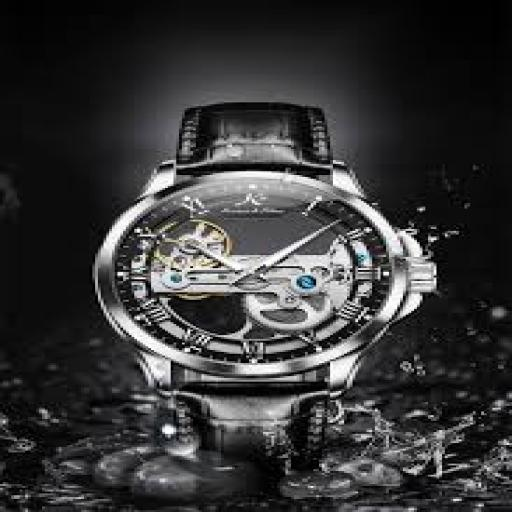KolSaati: (81, 89, 443, 464)
